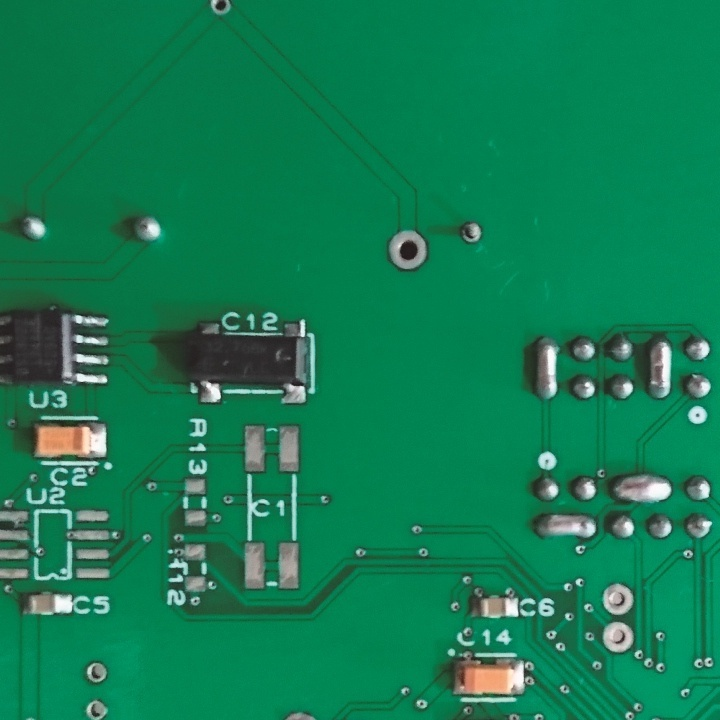F: (385, 227, 430, 272), (597, 579, 637, 618), (600, 617, 634, 657), (456, 220, 487, 248), (84, 660, 111, 688), (82, 696, 110, 720), (207, 1, 231, 20)
P: (609, 468, 675, 507), (533, 508, 601, 543), (530, 333, 562, 402), (645, 333, 673, 403)
